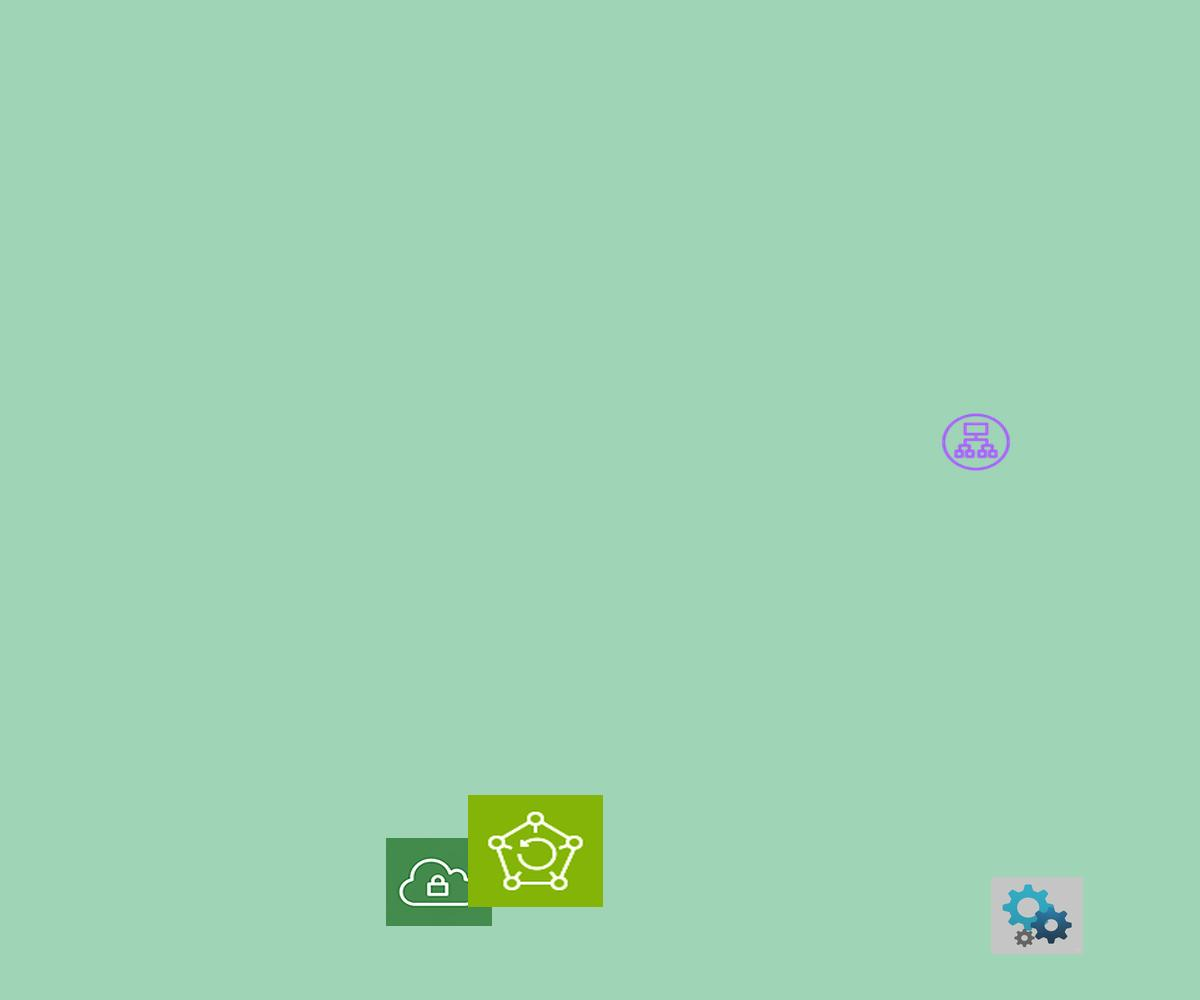AWS-Backup: (468, 795, 603, 907)
AWS-Private_vpc: (386, 838, 492, 926)
AWS-Res_Elastic-Load-Balancing_Application-Load-Balancer: (939, 411, 1013, 473)
Azure_api: (991, 877, 1083, 954)
